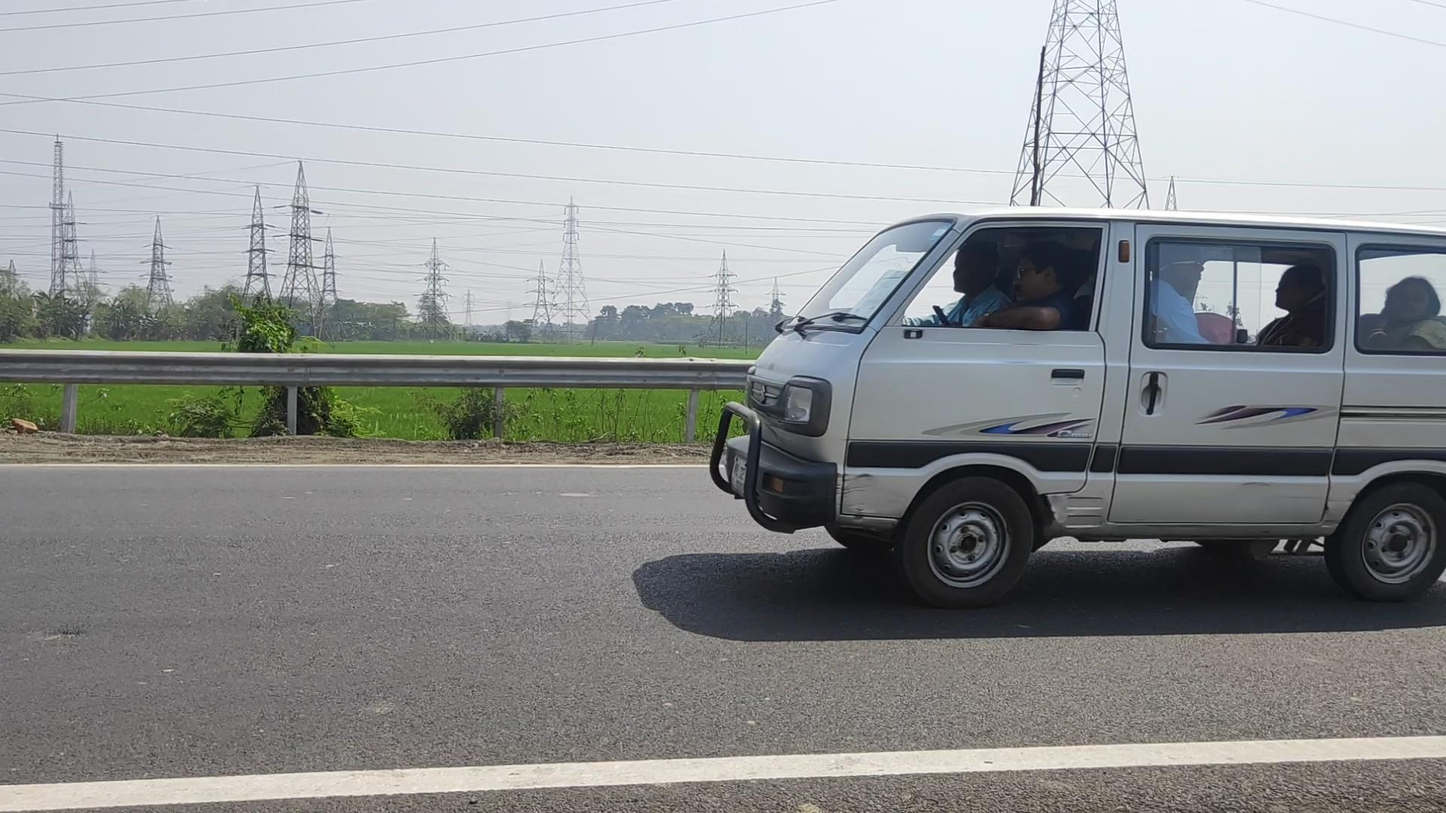van: (711, 209, 1446, 610)
